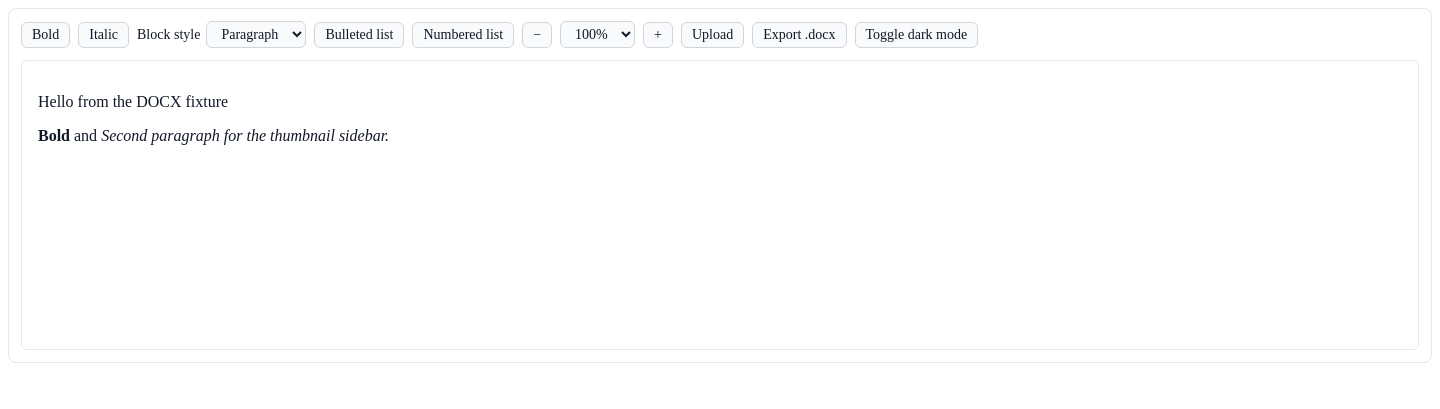
DocxEditor › starts at upstream defaultZoomScale 100 and zooms through the upstream steps
Expected: the dropdown named "Zoom level" shows "100%", [560,21,635,48]
Click the button named "Zoom in". click: coordinates (658, 34)
box: [643,22,673,48]
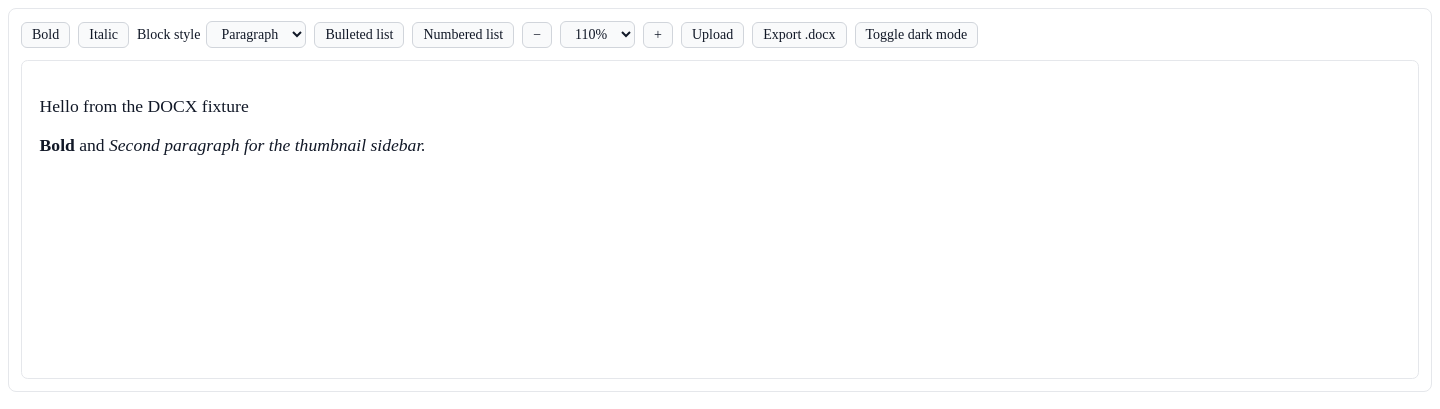
Click the button named "Zoom out". click: coordinates (537, 34)
box: [522,22,552,48]
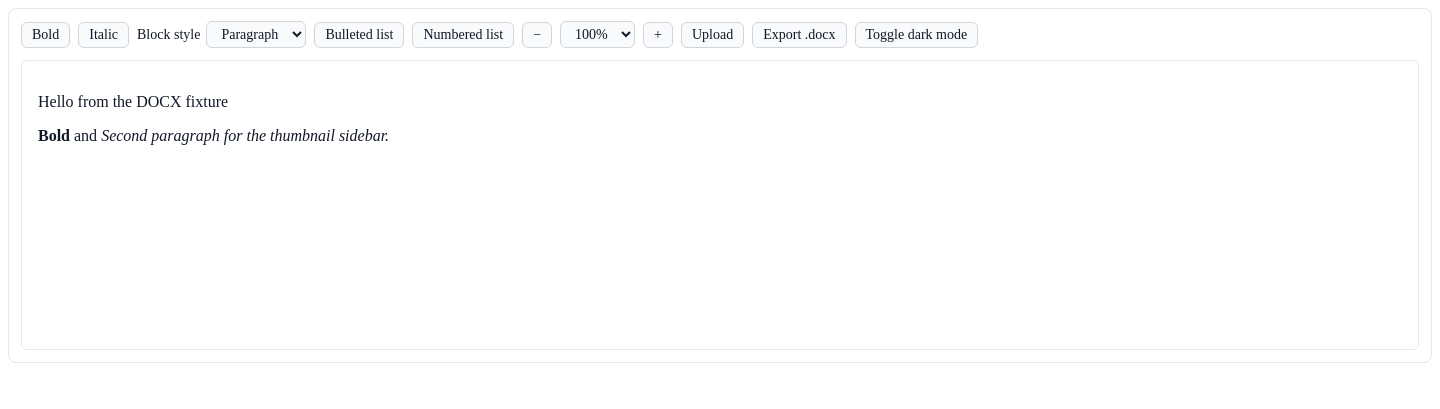
Click the button named "Zoom out". click: coordinates (537, 34)
box: [522,22,552,48]
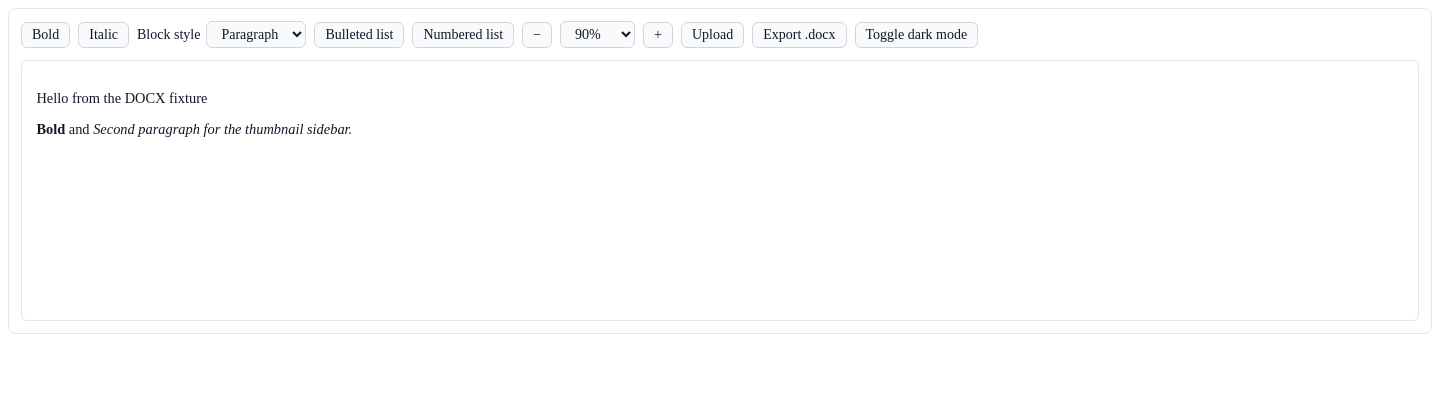
Result: the dropdown named "Zoom level" shows "90%" at [560,21,635,48]
